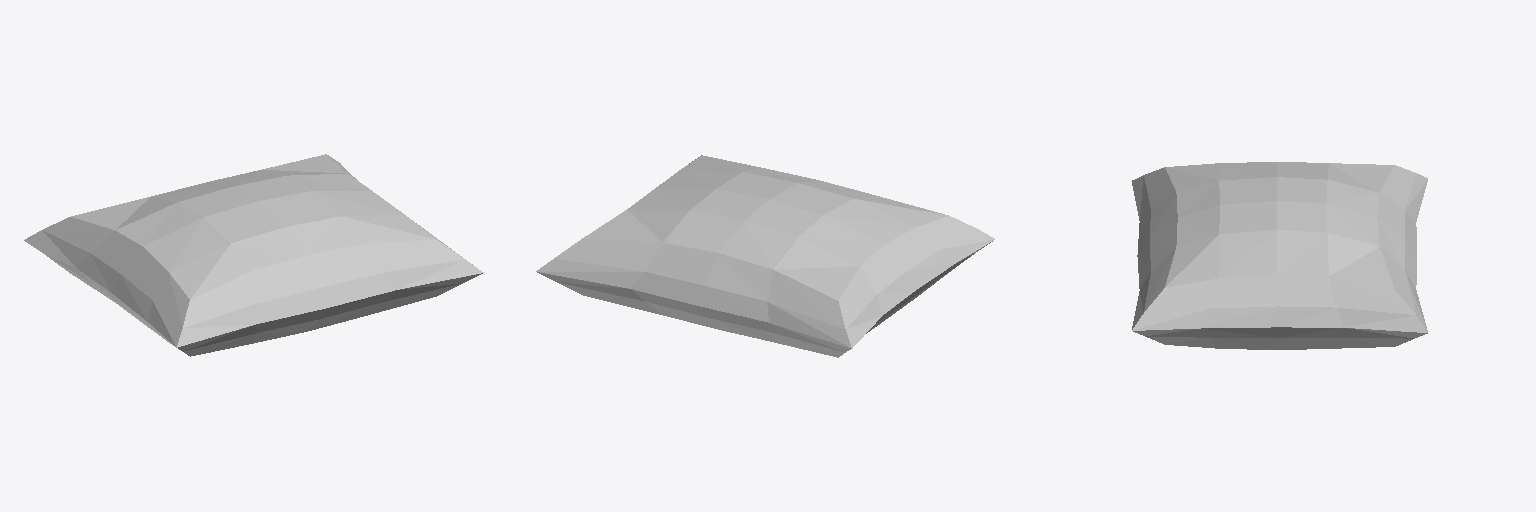
File: pillow2.obj
The picture shows the model from 3 angles: view 1: azimuth 30°, elevation 25°; view 2: azimuth 150°, elevation 25°; view 3: azimuth 270°, elevation 25°; orthographic projection.
Bounding box in the file's own units: 5.24 × 1.75 × 4.25.